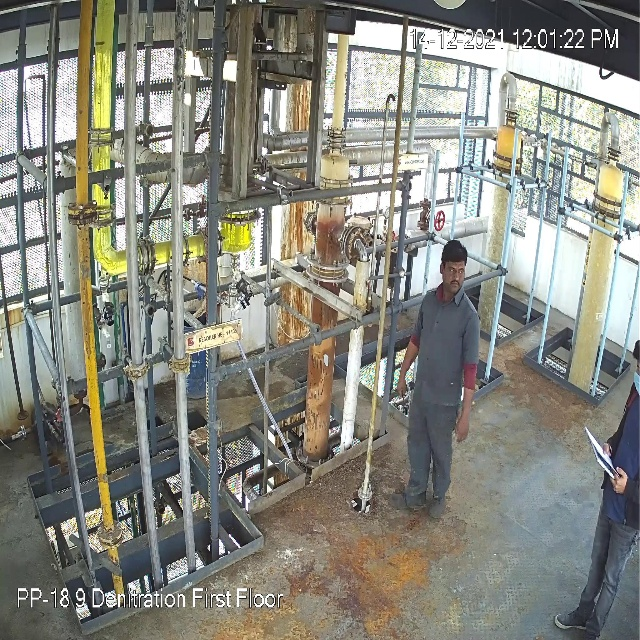Sin_gafas: (442, 263, 465, 278)
Sin_guantes: (392, 340, 419, 403), (450, 385, 477, 442)
Sin_mascara: (443, 275, 463, 294)
